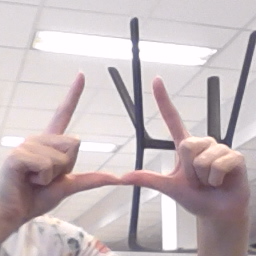U: (4, 70, 253, 217)
